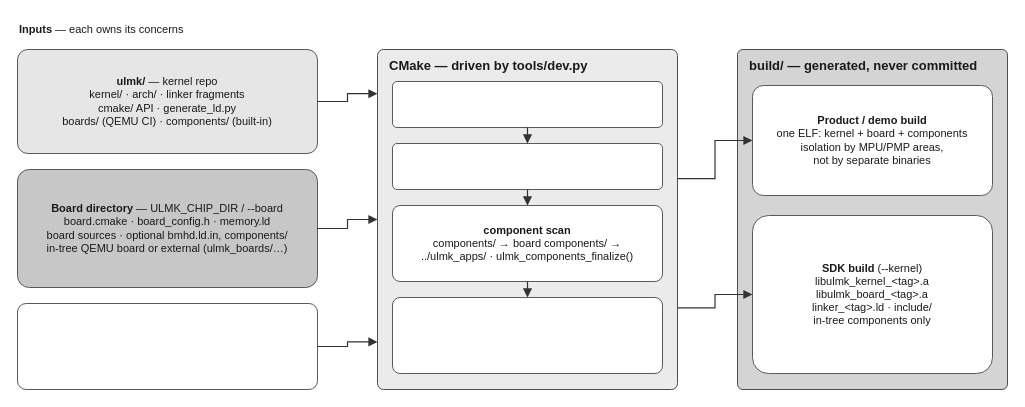
This 1025x407 diagram has some shape labels left out. Each missing label, with the centre of its shape:
../ulmk_apps/ — optional sibling external components one ROOT_THREAD per ELF: point (167, 346)
board.cmake → ULMK_ARCH, CPU flags: point (527, 104)
gen_config.py → config.h, platform.h: point (527, 166)
generate_ld.py , before link chip + arch + kernel fragments → generated/ulmk.ld: point (527, 335)
